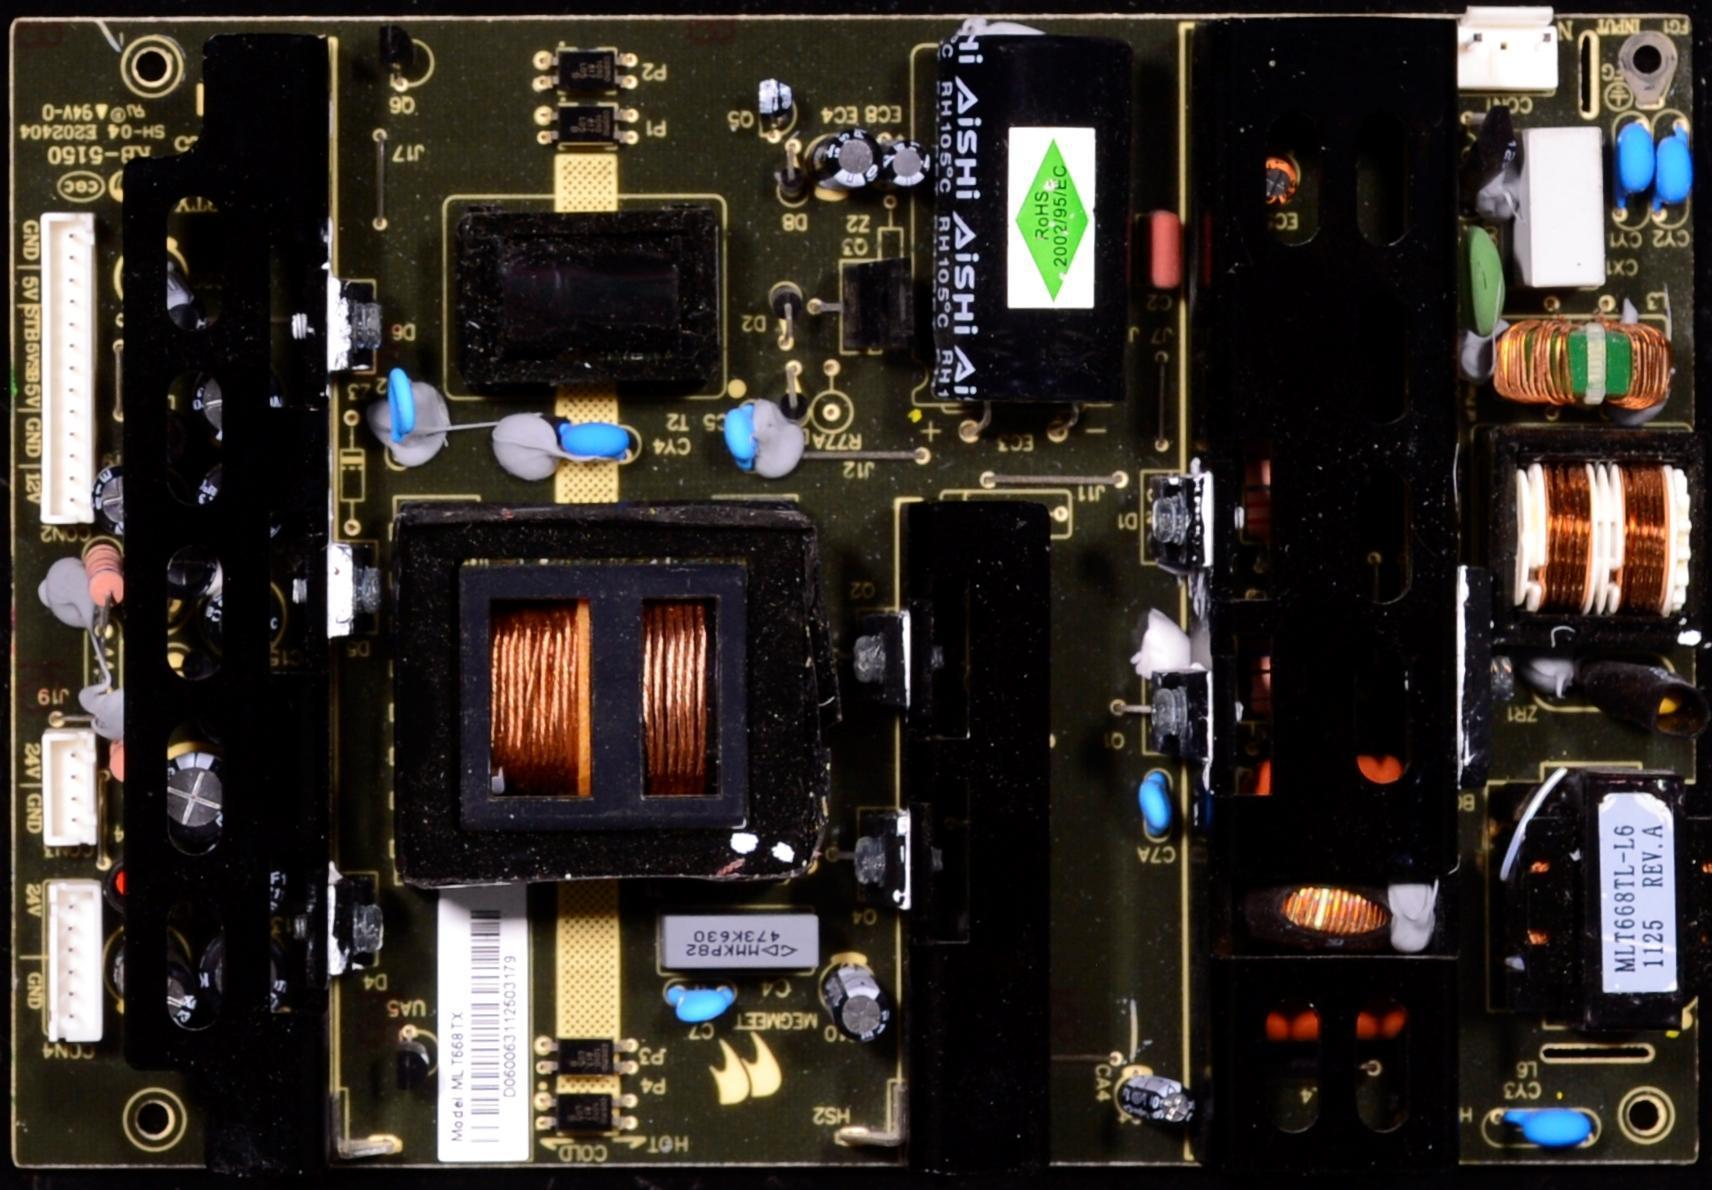Capacitor: (1487, 1098, 1606, 1161), (712, 390, 773, 495), (659, 978, 750, 1047), (547, 411, 639, 471), (1659, 121, 1700, 221), (1129, 755, 1168, 862), (386, 363, 429, 457), (1620, 110, 1658, 209)
Connector: (44, 214, 94, 523), (51, 881, 105, 1037), (40, 728, 97, 860)
Transistor: (806, 254, 922, 360), (375, 25, 431, 88)
